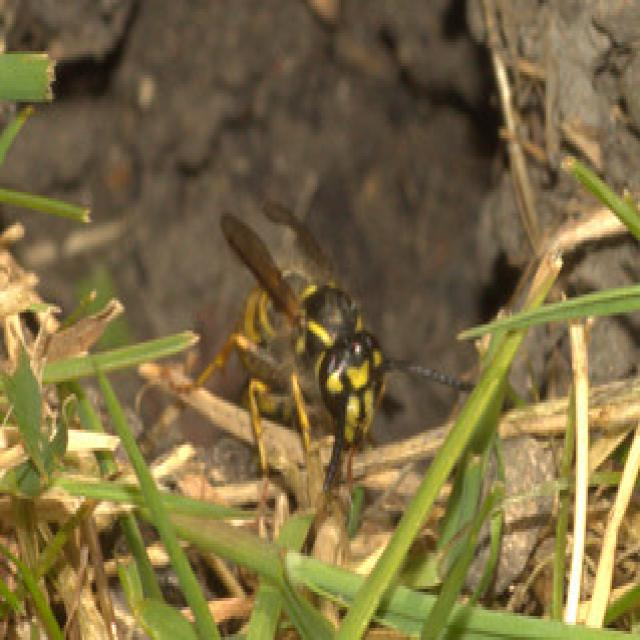Guepe: (184, 192, 514, 508)
